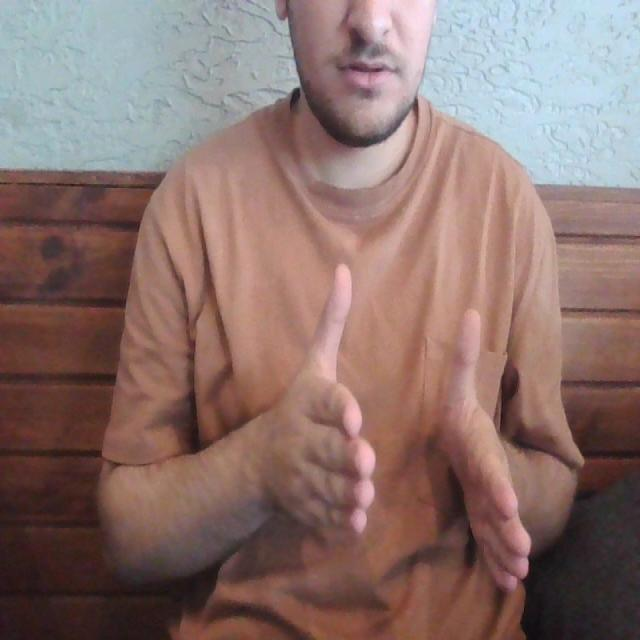Nasil: (274, 263, 537, 607)
